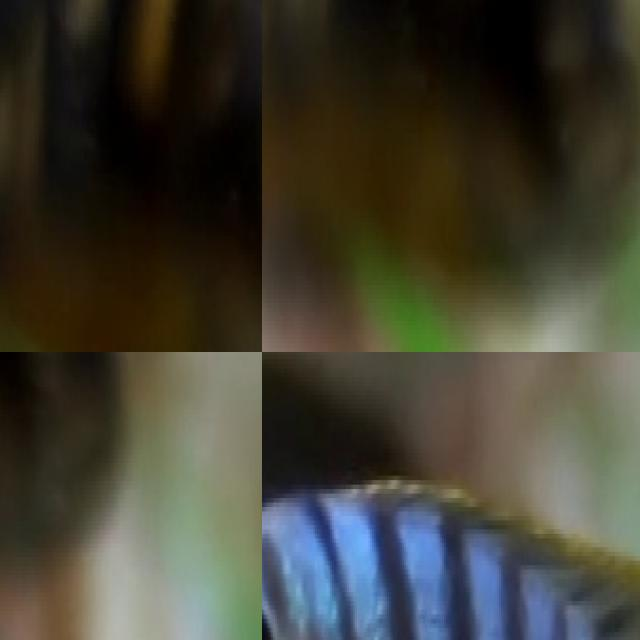fish: (262, 0, 640, 352), (0, 0, 262, 352), (262, 352, 436, 619), (0, 352, 143, 606)
